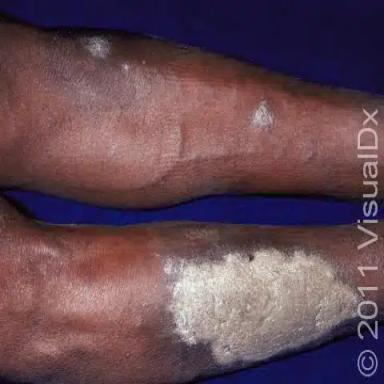Psoriasis: (163, 248, 356, 366), (80, 33, 110, 60), (252, 100, 275, 130)
